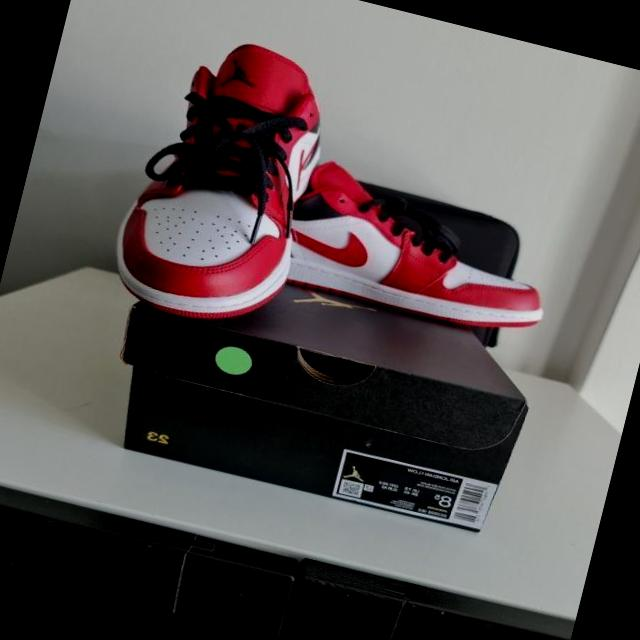nike_original_jordan: (98, 20, 345, 343), (261, 149, 568, 344)
